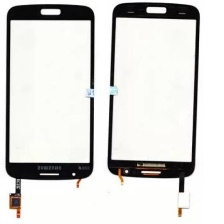phone: (104, 0, 203, 181), (3, 2, 95, 182)
